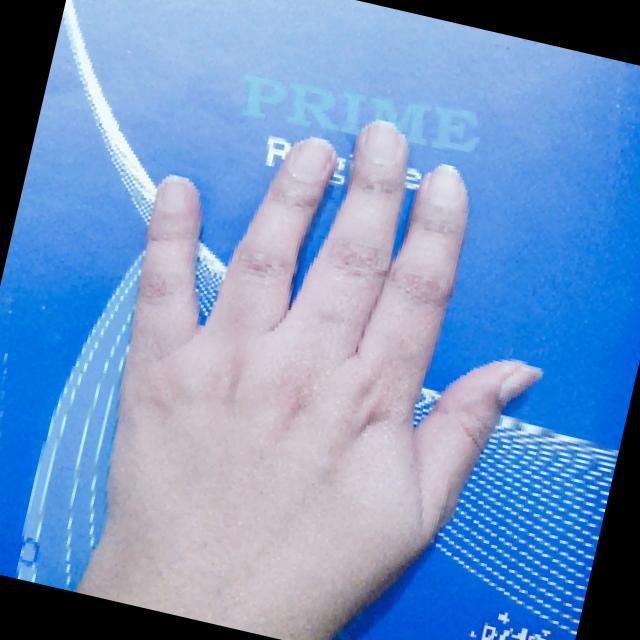Nail: (366, 120, 404, 165), (290, 137, 331, 178), (497, 367, 540, 405), (429, 164, 462, 205), (158, 174, 186, 213)
